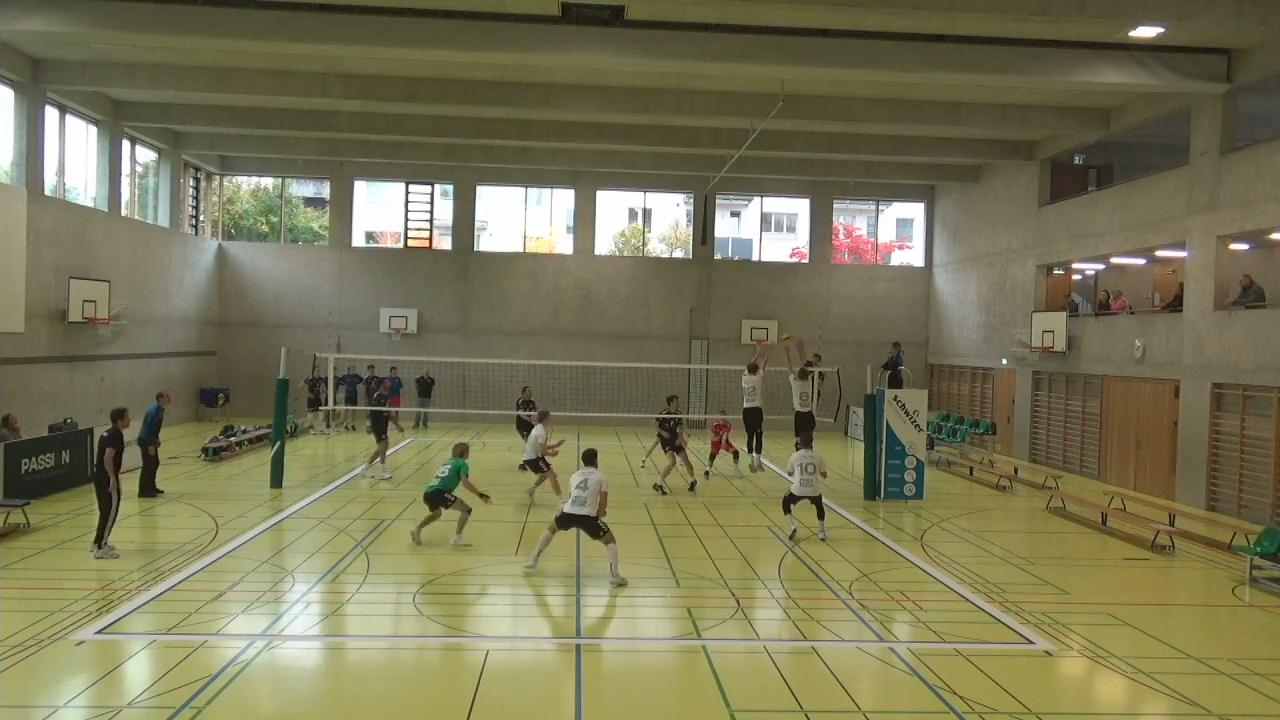attacco: (803, 340, 830, 396)
muro: (736, 332, 770, 478), (783, 333, 820, 450)
